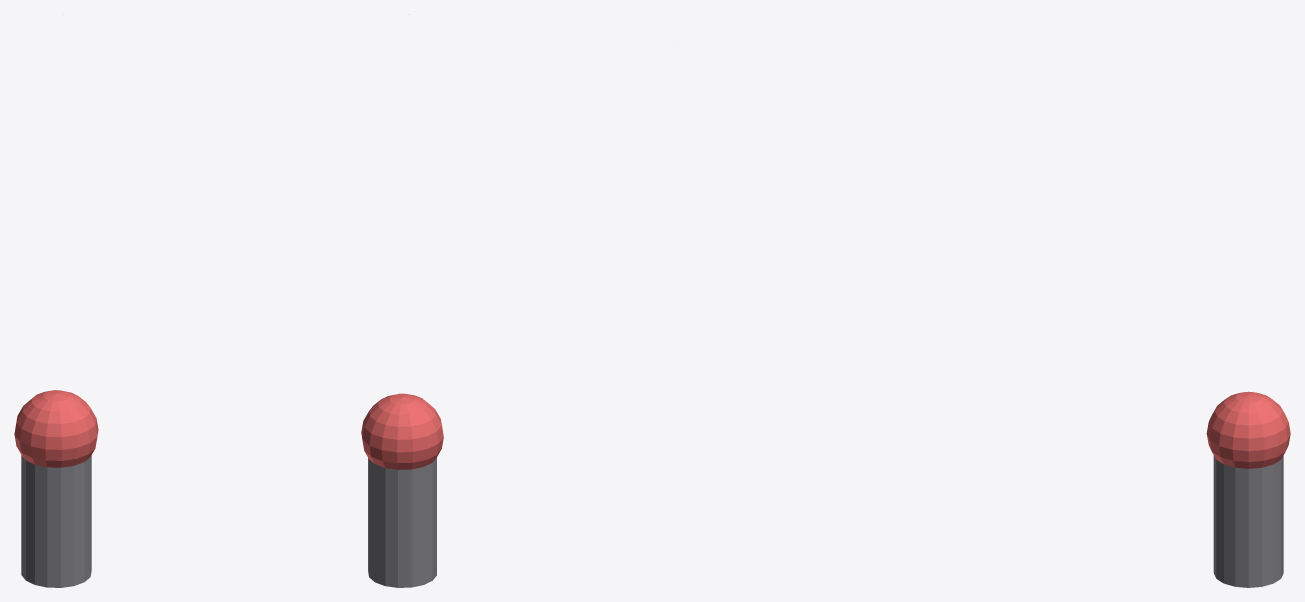
The model's file is firework_4tou_3d.glb.
3 renders of one model, left to right at view 1: azimuth 30°, elevation 25°; view 2: azimuth 150°, elevation 25°; view 3: azimuth 270°, elevation 25°, orthographic.
Parts seen in each view (by area): view 1: firework_tube, firework_shell; view 2: firework_tube, firework_shell; view 3: firework_tube, firework_shell.
Boxes of the visible parts, <box> form: firework_tube: <box>21,455,91,587</box>; firework_shell: <box>14,390,98,467</box>; firework_tube: <box>368,457,436,587</box>; firework_shell: <box>361,393,443,469</box>; firework_tube: <box>1213,455,1283,587</box>; firework_shell: <box>1206,391,1290,468</box>.
Size of the model in its own units: 0.12 by 0.8804 by 0.84.
